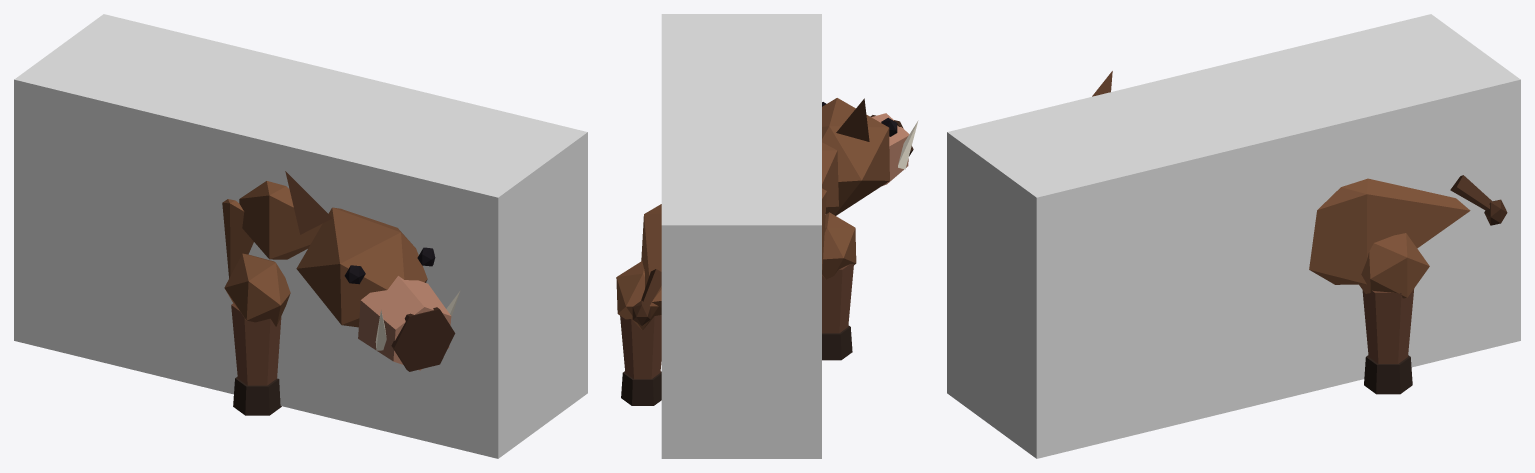
Rendered from plains_boar.fbx.
The picture shows the model from 3 angles, left to right: view 1: azimuth 30°, elevation 25°; view 2: azimuth 150°, elevation 25°; view 3: azimuth 270°, elevation 25°; orthographic projection. The views are drawn at different scales.
Parts seen in each view (by area): view 1: Root__0.00_1.50_-0.45__1.87_3.00_5.82, Head__Body__0.00_2.03_-1.47, LegFR__Body__0.63_1.22_-0.97, Body__Root__0.00_1.78_0.10; view 2: Root__0.00_1.50_-0.45__1.87_3.00_5.82, Head__Body__0.00_2.03_-1.47, LegBL__Body__-0.63_1.22_1.22, LegFR__Body__0.63_1.22_-0.97, Body__Root__0.00_1.78_0.10, Tail__Body__0.00_2.03_1.93; view 3: Root__0.00_1.50_-0.45__1.87_3.00_5.82, Body__Root__0.00_1.78_0.10, LegBL__Body__-0.63_1.22_1.22, Tail__Body__0.00_2.03_1.93.
Boxes of the visible parts, x1,y1,x2,y2 form: Root__0.00_1.50_-0.45__1.87_3.00_5.82: (14, 14, 587, 458); Head__Body__0.00_2.03_-1.47: (285, 171, 460, 371); LegFR__Body__0.63_1.22_-0.97: (224, 253, 290, 415); Body__Root__0.00_1.78_0.10: (222, 181, 322, 278); Root__0.00_1.50_-0.45__1.87_3.00_5.82: (661, 14, 821, 458); Head__Body__0.00_2.03_-1.47: (822, 98, 918, 215); LegBL__Body__-0.63_1.22_1.22: (616, 261, 661, 405); LegFR__Body__0.63_1.22_-0.97: (822, 212, 856, 360); Body__Root__0.00_1.78_0.10: (641, 142, 838, 307); Tail__Body__0.00_2.03_1.93: (632, 269, 661, 325); Root__0.00_1.50_-0.45__1.87_3.00_5.82: (947, 14, 1520, 458); Body__Root__0.00_1.78_0.10: (1309, 178, 1470, 284); LegBL__Body__-0.63_1.22_1.22: (1359, 233, 1429, 394); Tail__Body__0.00_2.03_1.93: (1450, 175, 1507, 225).
Bounding box in the file's own units: 127 × 84.56 × 167.
1 material, 1 textured.
